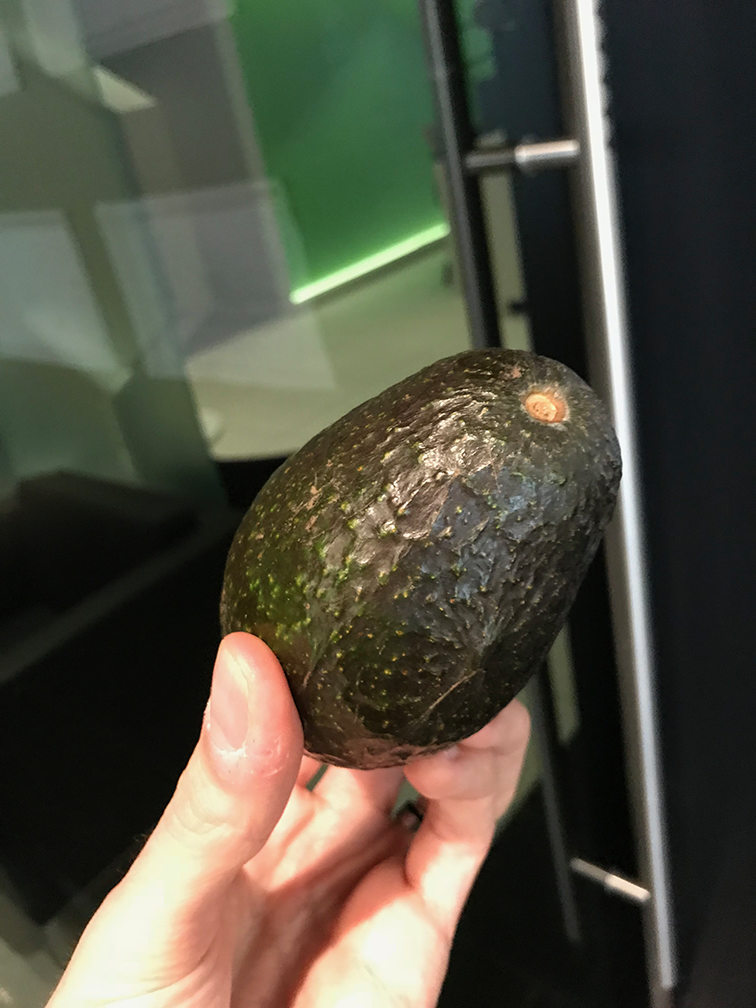avocado: (229, 335, 616, 783)
